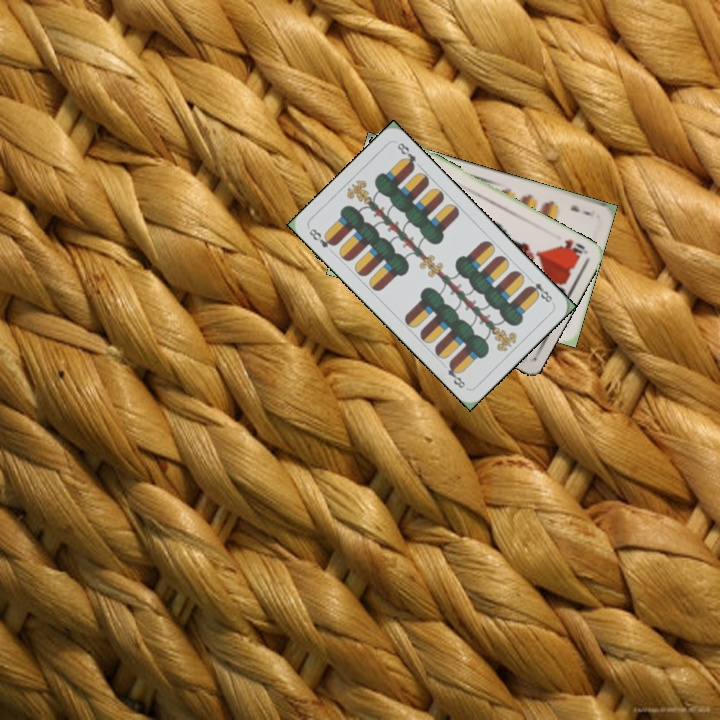E7: (566, 201, 598, 218)
E8: (524, 273, 556, 306), (305, 224, 339, 251)
HO: (556, 235, 588, 260)
